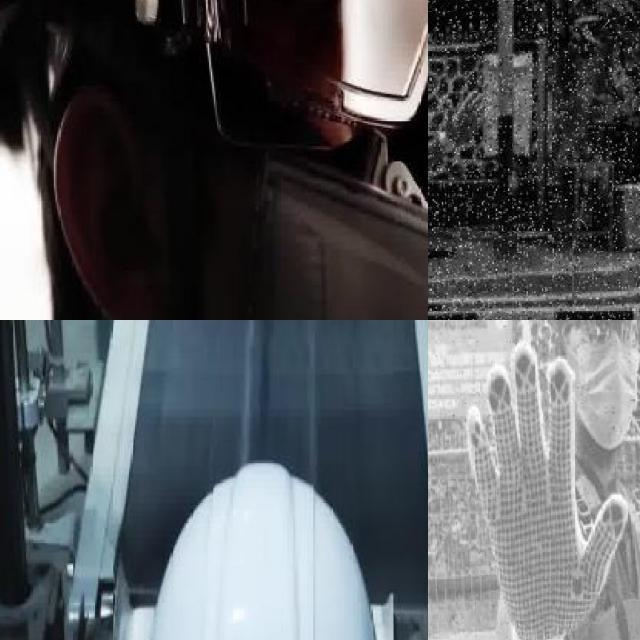apron: (464, 340, 629, 640), (436, 88, 491, 157)
